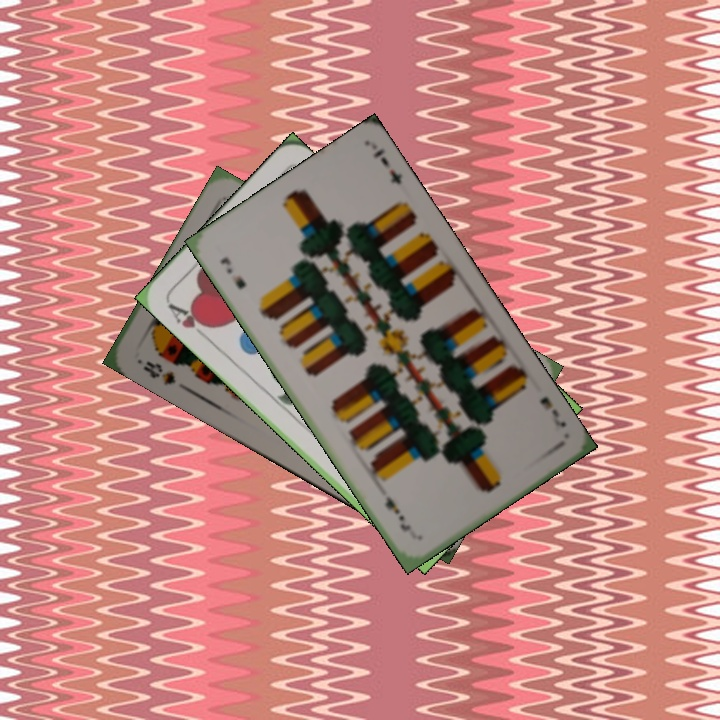E7: (216, 253, 249, 292), (536, 392, 569, 430)
HA: (164, 299, 216, 343)
S8: (139, 357, 178, 388)
